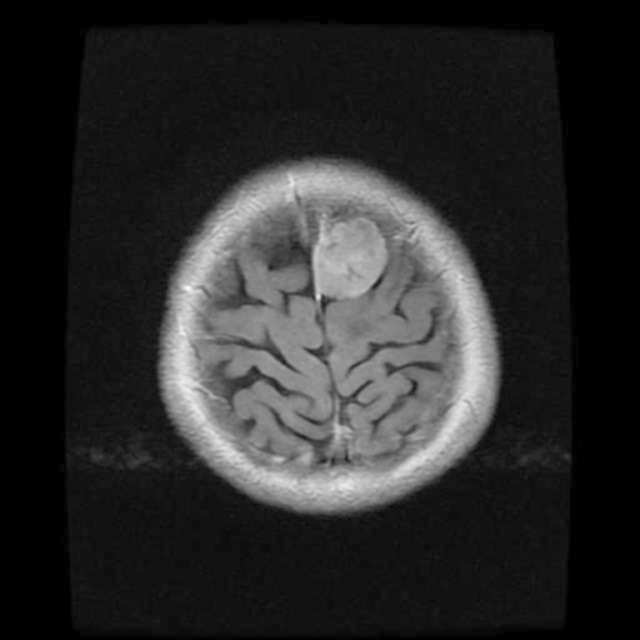meningioma tumor: (308, 216, 407, 315)
